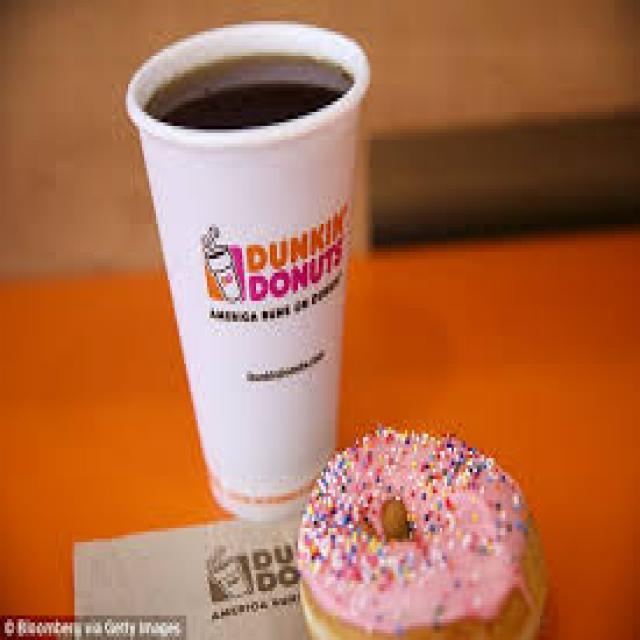organic waste: (293, 423, 547, 637)
